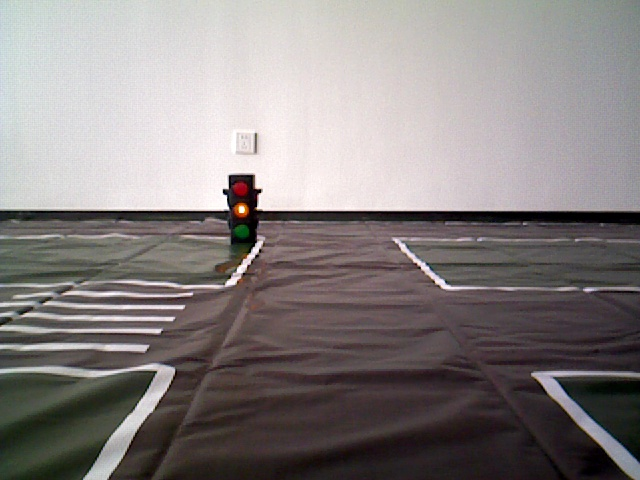yellow: (225, 174, 259, 246)
